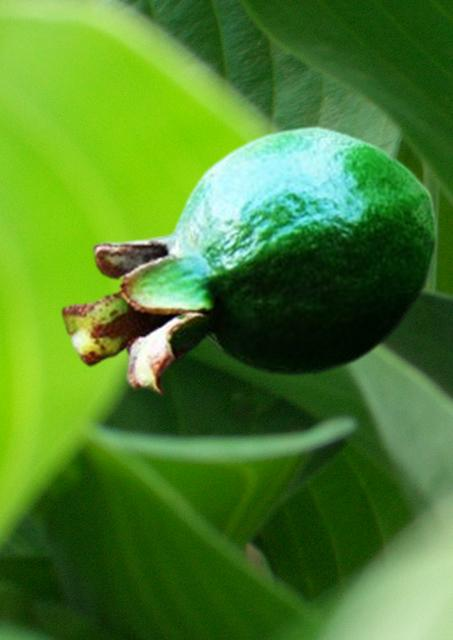guava: (60, 124, 438, 396)
